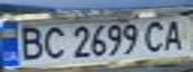2: (69, 22, 93, 60)
6: (87, 21, 109, 59)
9: (121, 20, 145, 56), (106, 21, 127, 57)
A: (157, 18, 190, 52)
B: (12, 22, 48, 61)
C: (36, 25, 69, 61), (139, 17, 172, 53)
